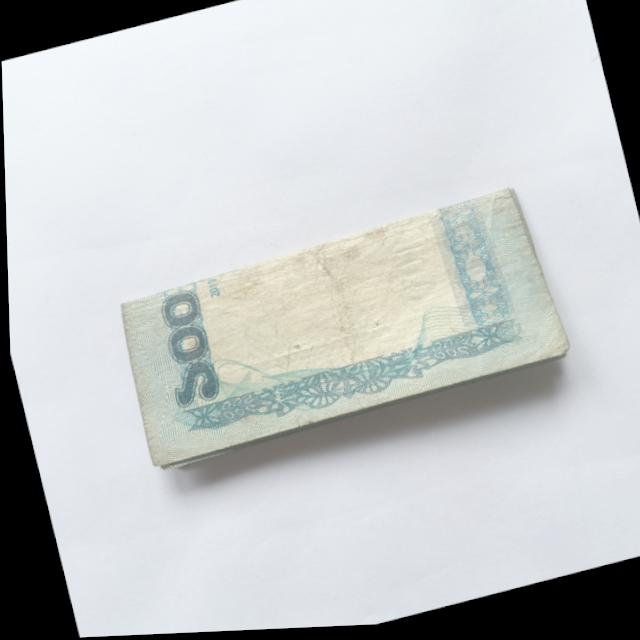Taka: (105, 180, 579, 480)
